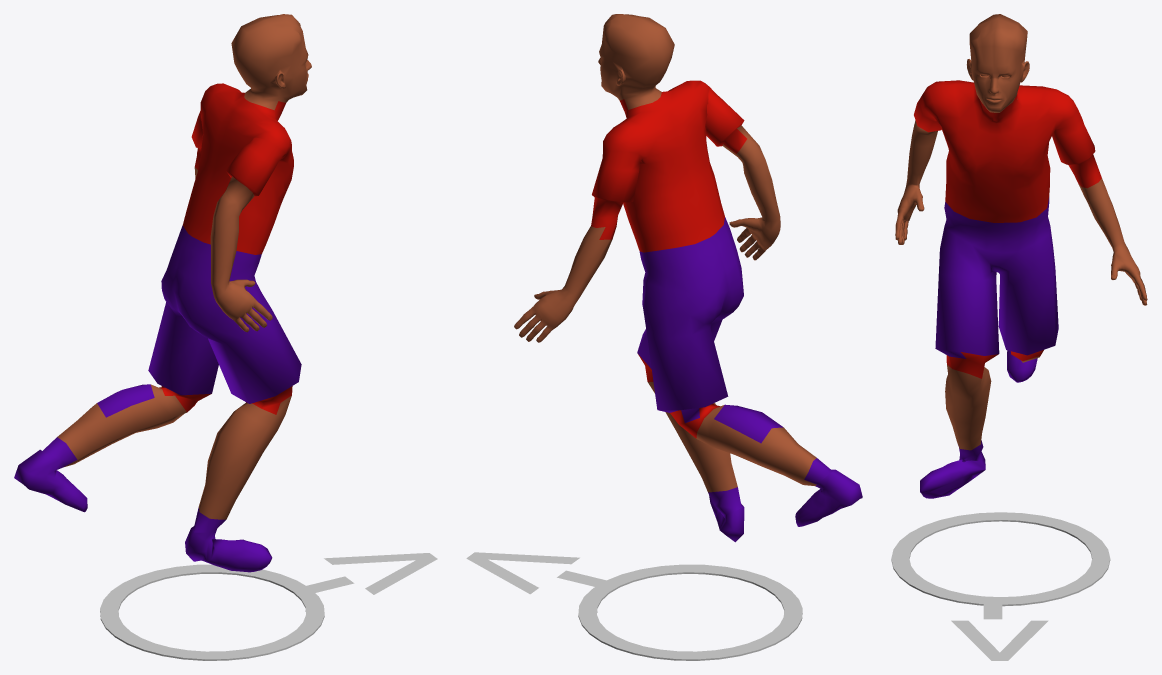
The model's file is player_000013.obj.
The picture shows the model from 3 angles, left to right: view 1: azimuth 30°, elevation 25°; view 2: azimuth 150°, elevation 25°; view 3: azimuth 270°, elevation 25°; orthographic projection. The views are drawn at different scales.
Parts seen in each view (by area): view 1: soccerplayer.002_mesh.003, Circle, Text.001_Mesh.001; view 2: soccerplayer.002_mesh.003, Circle, Text.001_Mesh.001; view 3: soccerplayer.002_mesh.003, Circle, Text.001_Mesh.001.
Boxes of the visible parts, box(x1,y1,x2,y2) form: soccerplayer.002_mesh.003: box(14, 14, 311, 572); Circle: box(100, 564, 324, 660); Text.001_Mesh.001: box(302, 553, 437, 594); soccerplayer.002_mesh.003: box(514, 14, 862, 542); Circle: box(578, 564, 802, 660); Text.001_Mesh.001: box(466, 552, 609, 594); soccerplayer.002_mesh.003: box(895, 14, 1147, 498); Circle: box(891, 512, 1110, 606); Text.001_Mesh.001: box(951, 598, 1048, 660).
Size of the model in its own units: 2.24 by 3.1 by 1.27.
